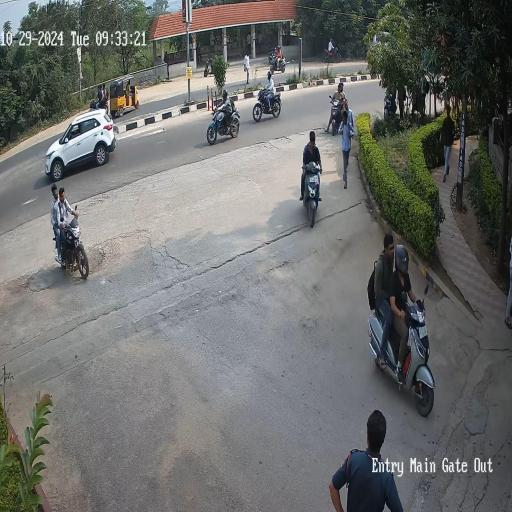helmet: (393, 238, 416, 281), (216, 83, 233, 106), (262, 68, 279, 86)
no helmet: (46, 182, 76, 207), (300, 122, 324, 149), (334, 81, 352, 99)
triple riding: (93, 84, 108, 108)
